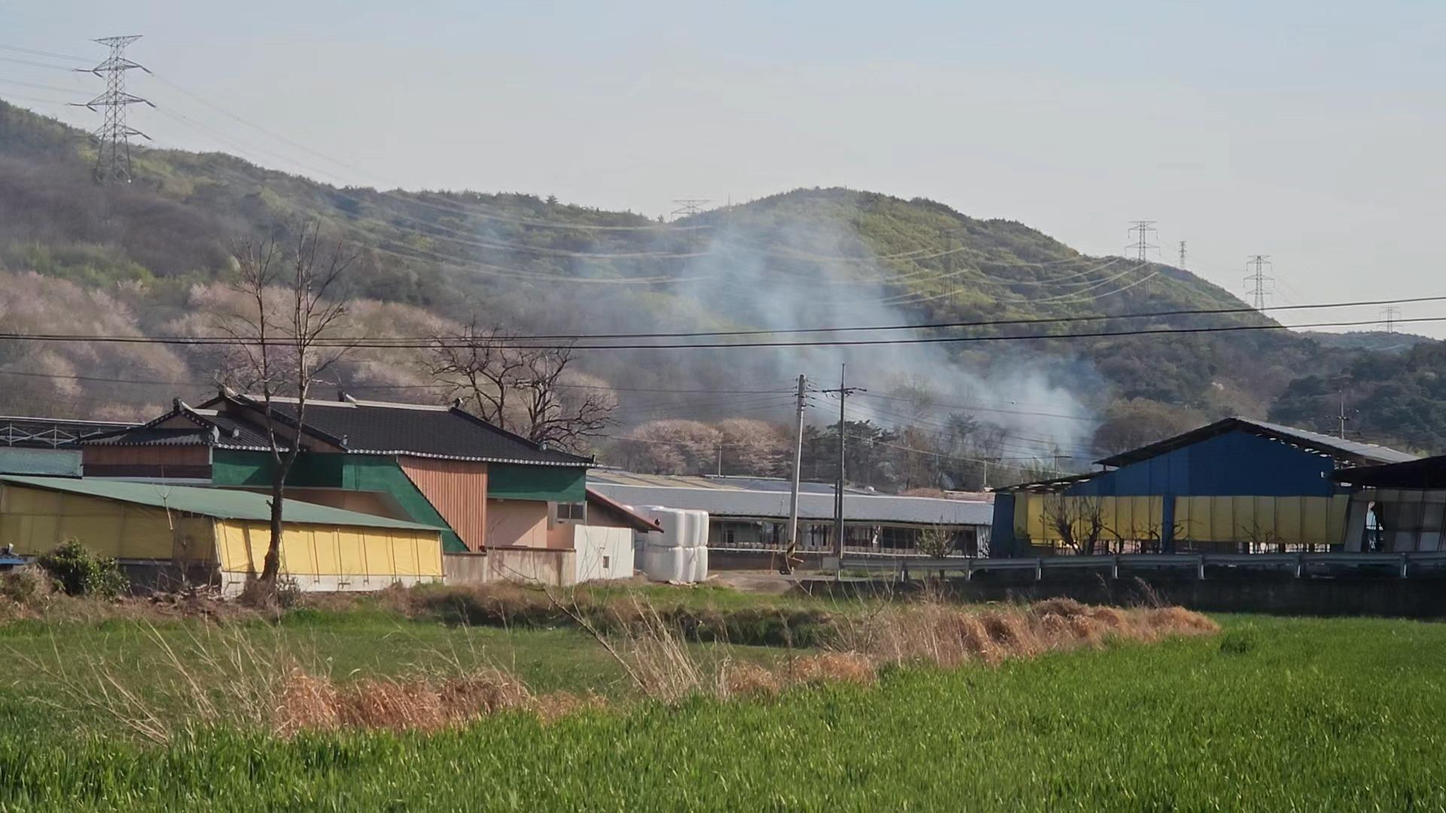smoke: (656, 204, 1064, 468)
